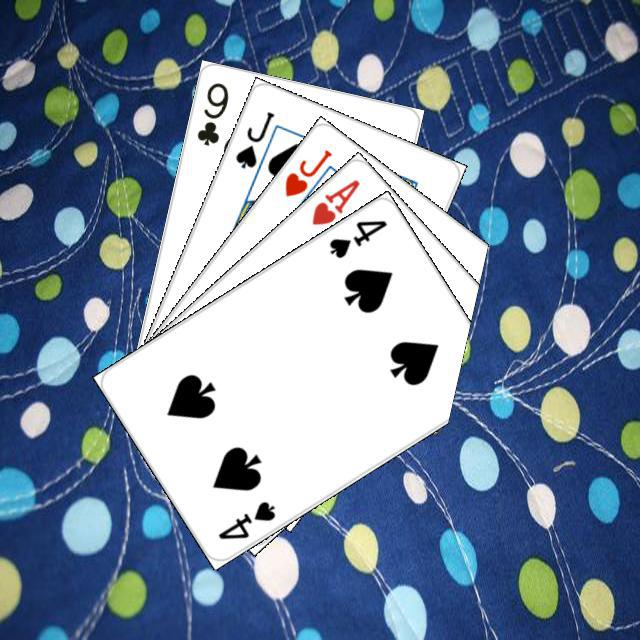4s: (212, 496, 278, 542), (324, 215, 389, 261)
9c: (192, 77, 230, 147)
Ah: (306, 174, 362, 227)
Jh: (279, 144, 334, 199)
Js: (230, 106, 276, 170)
